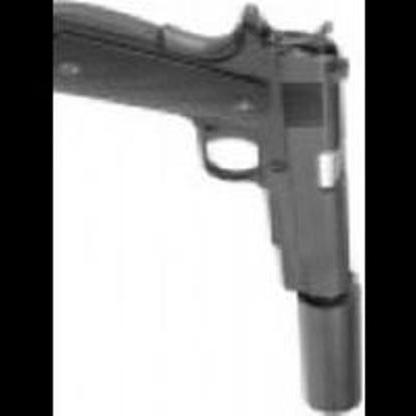weapon: (56, 3, 364, 413)
